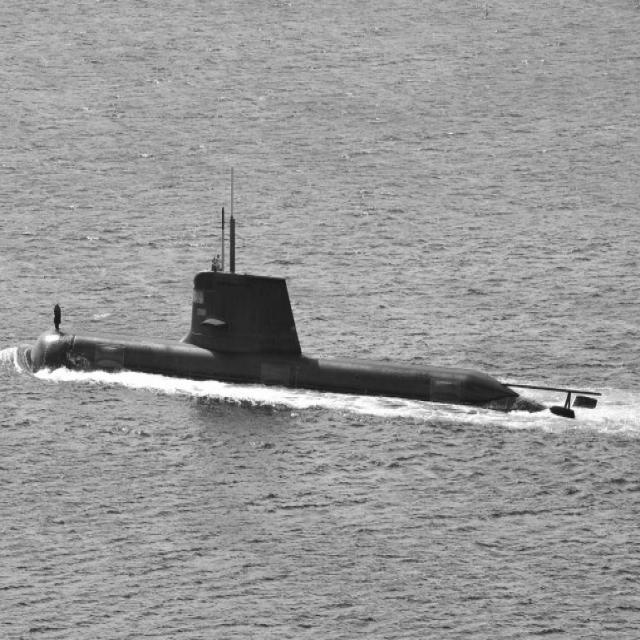submarine: (1, 159, 609, 423)
